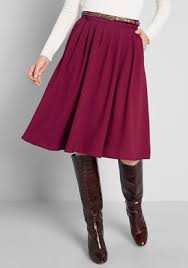C_skirt: (27, 10, 161, 167)
